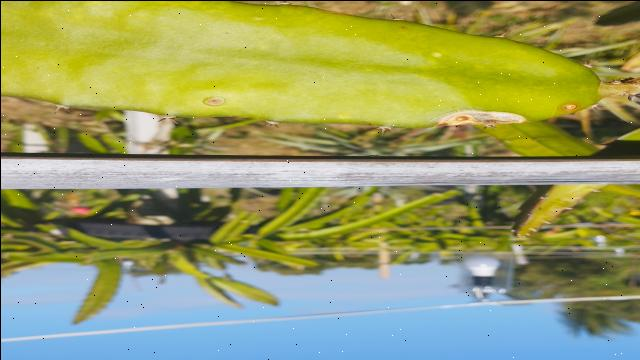stemcanker: (550, 99, 587, 118), (436, 112, 477, 129), (199, 95, 232, 109)
